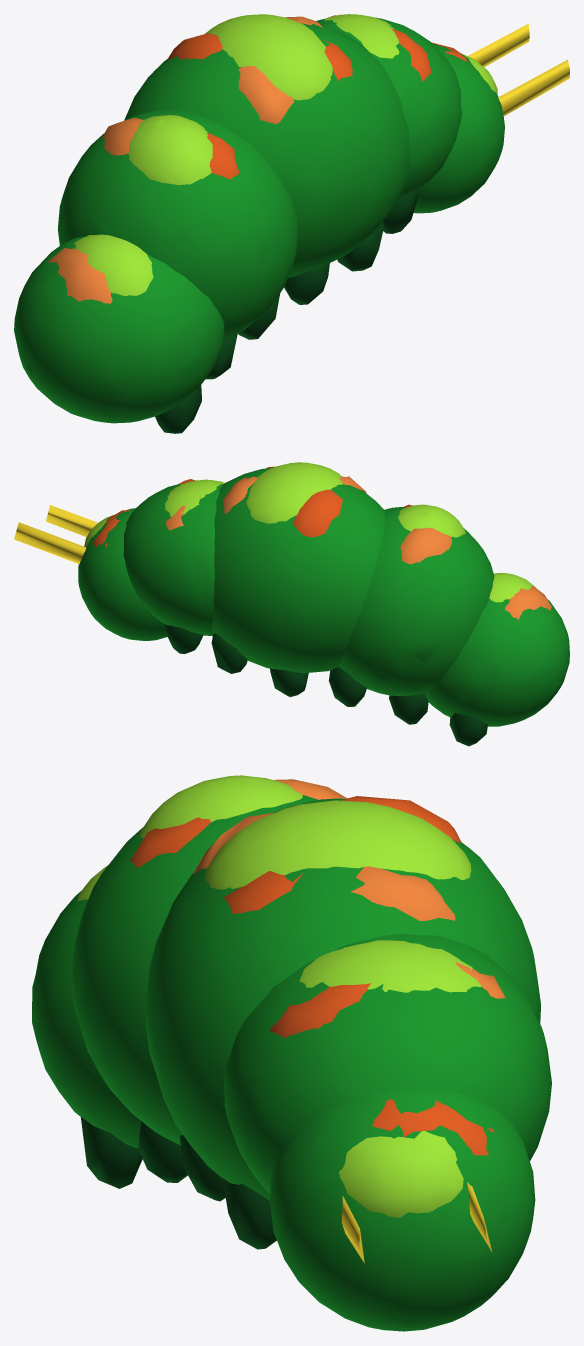
File: try3rd time.FBX
3 views of the same model, one above another, from view 1: azimuth 30°, elevation 25°; view 2: azimuth 150°, elevation 25°; view 3: azimuth 270°, elevation 25° (orthographic). The views are drawn at different scales.
Parts seen in each view (by area): view 1: Sphere004; view 2: Sphere004; view 3: Sphere004.
Boxes of the visible parts, left/top/right/bottom form: Sphere004: left=14, top=14, right=569, bottom=433; Sphere004: left=14, top=462, right=569, bottom=746; Sphere004: left=32, top=775, right=551, bottom=1331.
Size of the model in its own units: 3123 by 1576 by 1497.
